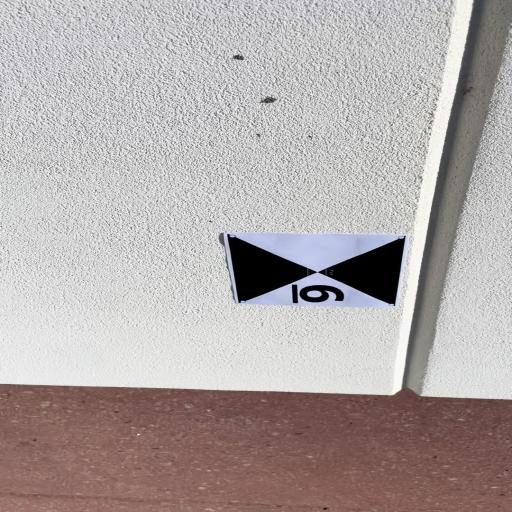target6: (223, 230, 407, 308)
